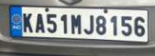1: (109, 15, 119, 37), (59, 14, 69, 34)
5: (45, 12, 58, 34), (120, 15, 133, 37)
6: (133, 16, 146, 38)
8: (95, 15, 107, 36)
A: (34, 13, 45, 34)
J: (83, 15, 95, 36)
K: (22, 13, 33, 34)
M: (69, 14, 82, 35)
